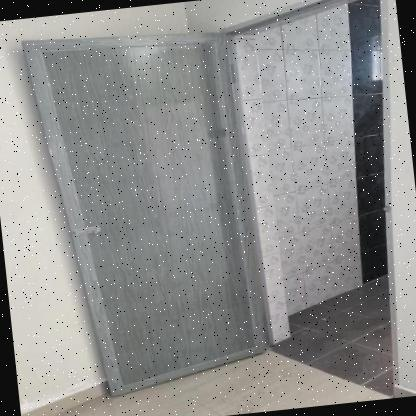door: (17, 16, 274, 396)
